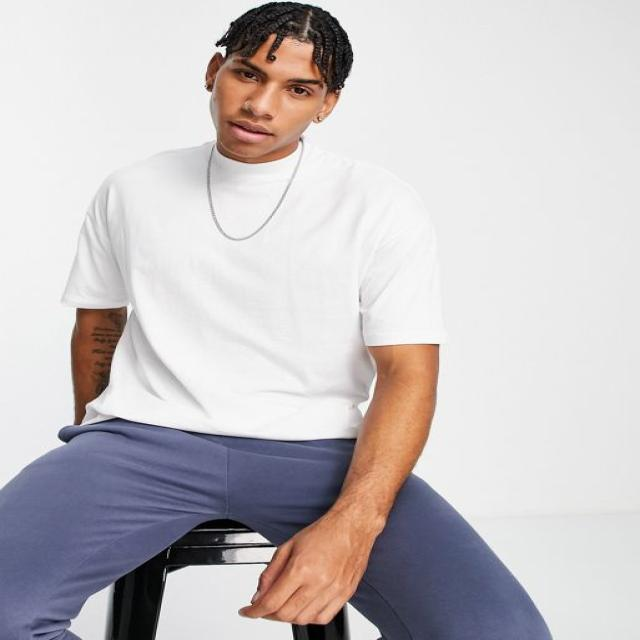tshirt: (59, 136, 446, 444)
